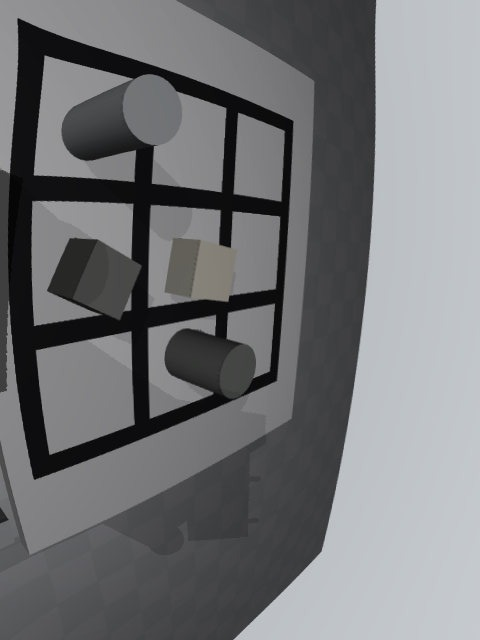can: (61, 74, 182, 161)
cube: (47, 238, 141, 320)
cylinder: (164, 328, 256, 399)
foam: (165, 238, 237, 302)
